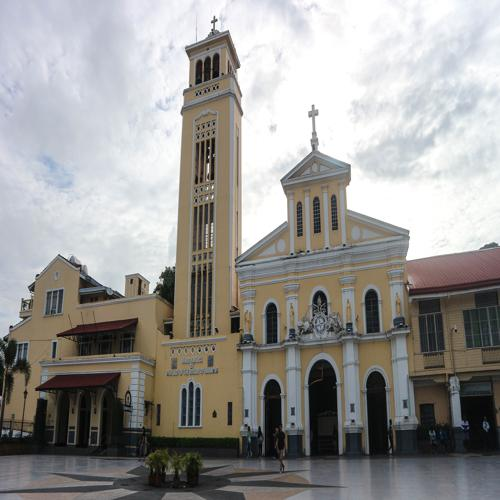Manaoag Church: (143, 9, 417, 462)
